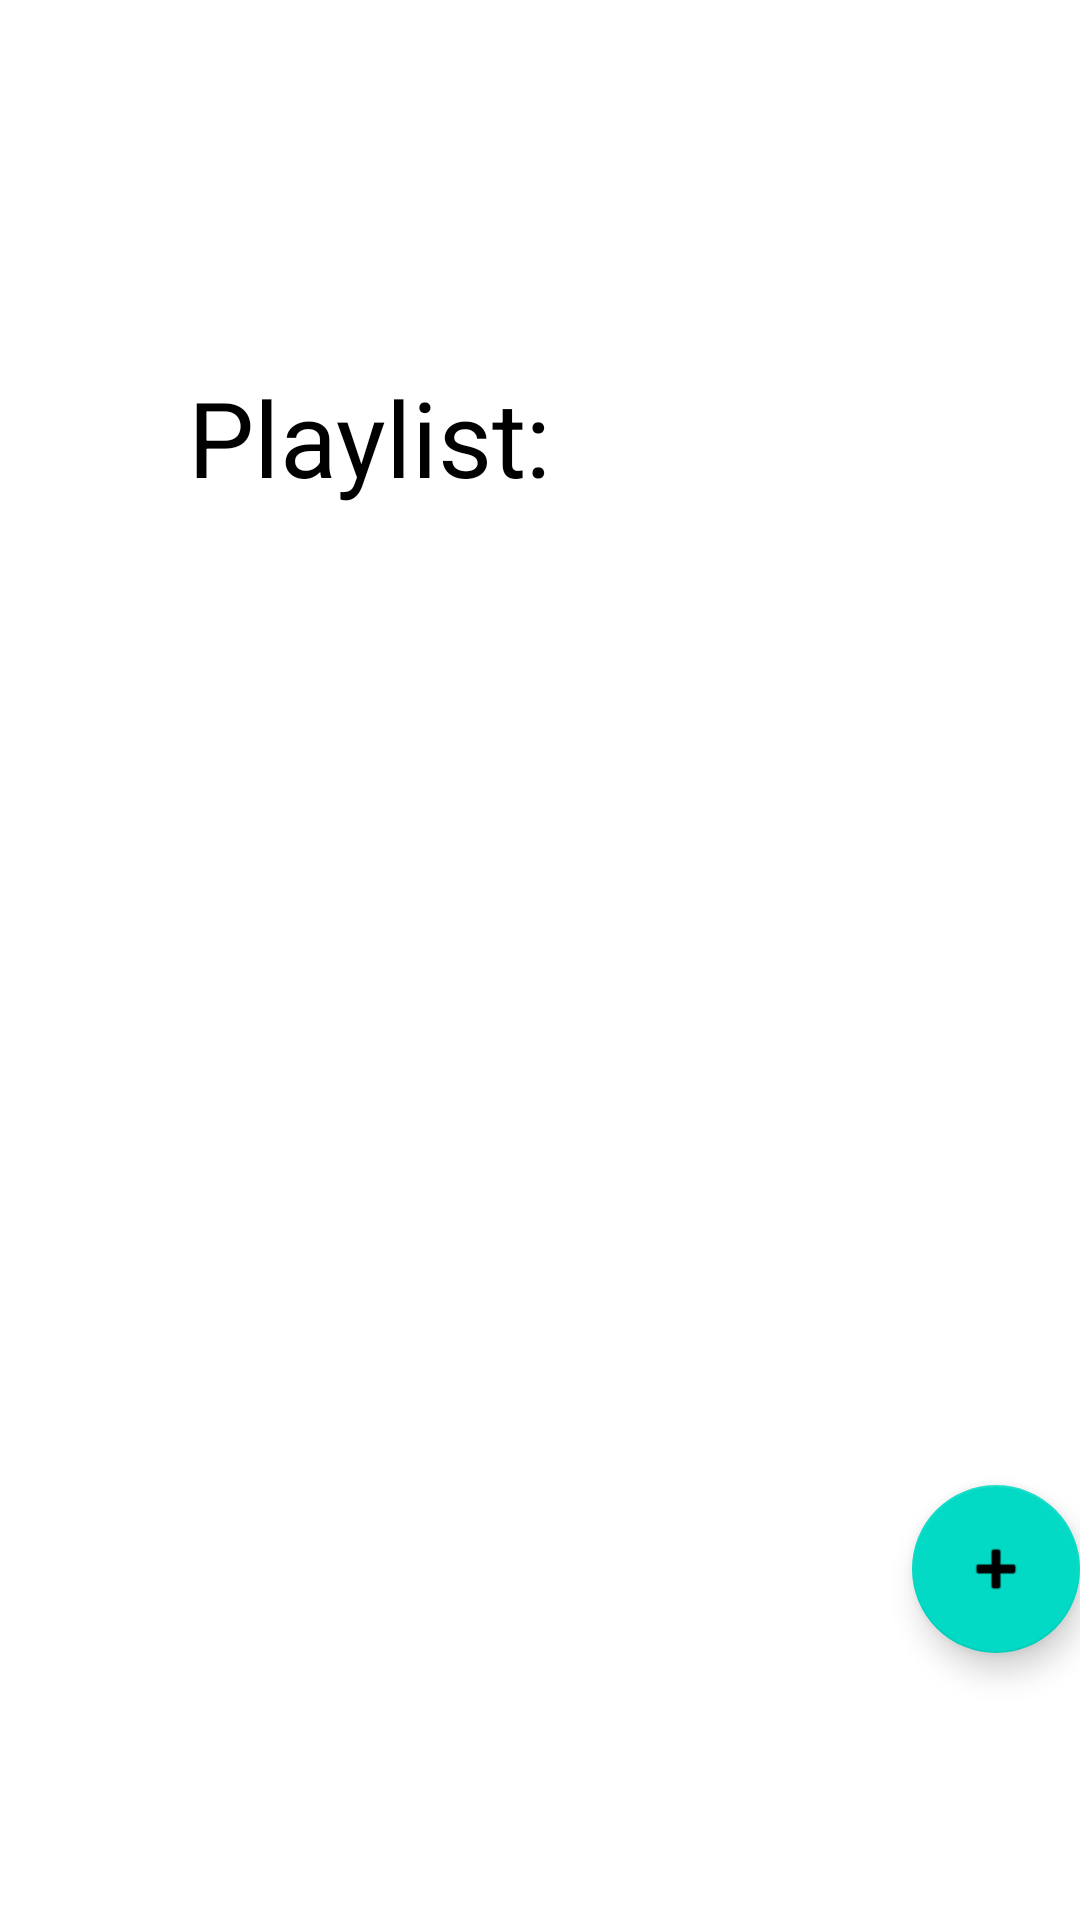

Where to tap for icons on this 1080×1920 app screen, as point (x, y):
Add playlist: point (996, 1569)
